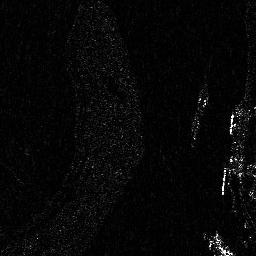ship: (190, 83, 209, 140)
